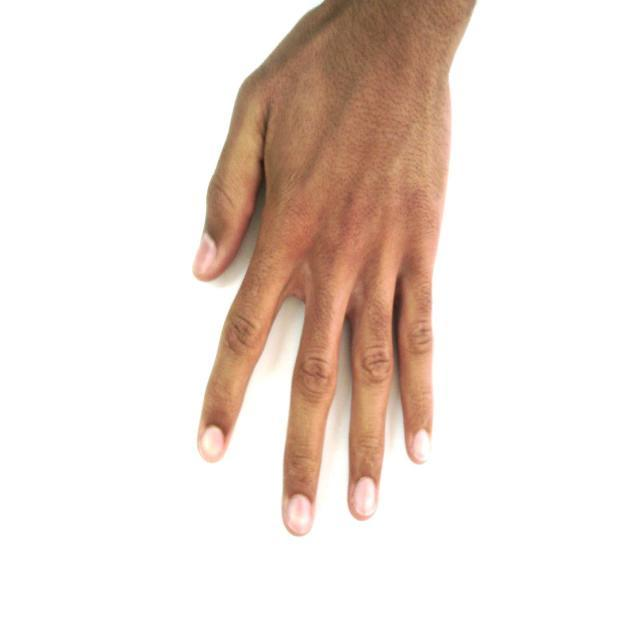Fingernail: (353, 477, 376, 517), (193, 234, 216, 274), (288, 495, 311, 534), (202, 427, 223, 458), (413, 430, 429, 460)
